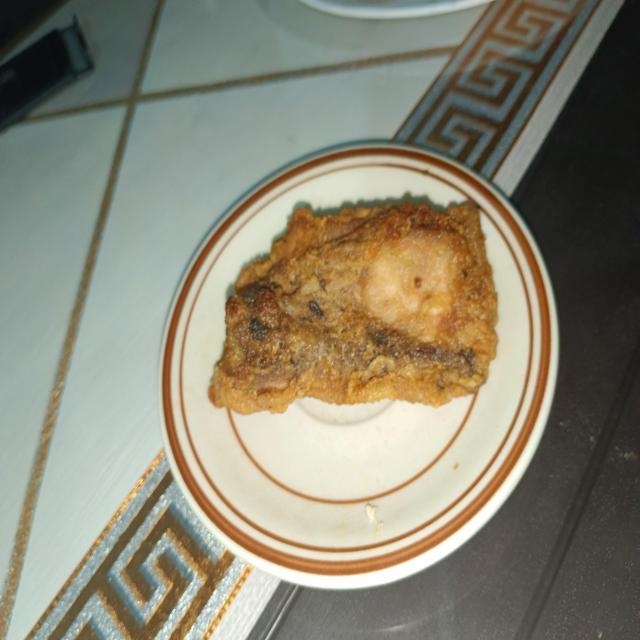Chicken -Fried Chicken-: (215, 180, 489, 419)
